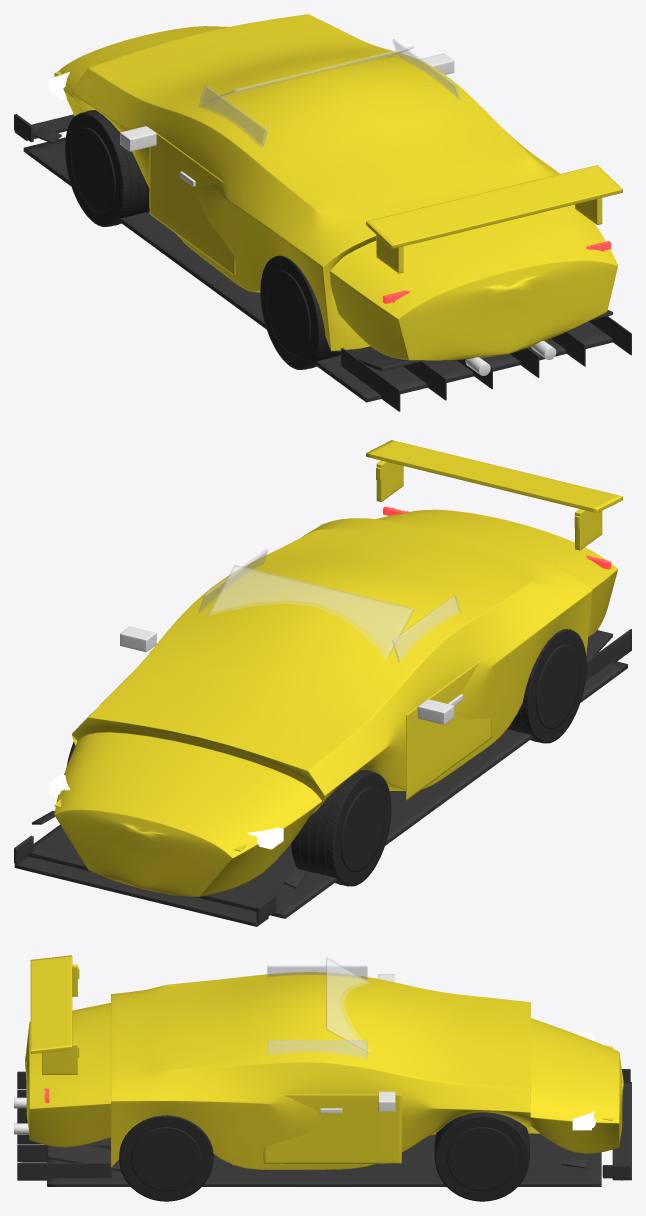
File: vehicle.opt.glb
The picture shows the model from 3 angles, top to bottom: view 1: azimuth 30°, elevation 25°; view 2: azimuth 150°, elevation 25°; view 3: azimuth 270°, elevation 25°; orthographic projection. The views are drawn at different scales.
Visible parts, largest first — view 1: BODY_MainShell, UNDERBODY_FlatFloor, AERO_GT2_BiplaneWingWithScoops, WHEEL_FL_Tire, BODY_Door_FL, WHEEL_RL_Tire, GLASS_Greenhouse, JEWELRY_Hardware, AERO_FrontSplitter, JEWELRY_GT2_TwinExhaust; view 2: BODY_MainShell, UNDERBODY_FlatFloor, GLASS_Greenhouse, WHEEL_FL_Tire, AERO_GT2_BiplaneWingWithScoops, WHEEL_RL_Tire, BODY_Door_FL, AERO_FrontSplitter, JEWELRY_Hardware, LIGHTING_Headlamps; view 3: BODY_MainShell, UNDERBODY_FlatFloor, BODY_Door_FR, WHEEL_FR_Tire, WHEEL_RR_Tire, AERO_GT2_BiplaneWingWithScoops, GLASS_Greenhouse, AERO_FrontSplitter, JEWELRY_Hardware, LIGHTING_Headlamps.
Part boxes in pixels (x1,y1,x2,y2): BODY_MainShell: (54,14,617,360); UNDERBODY_FlatFloor: (23,137,631,411); AERO_GT2_BiplaneWingWithScoops: (366,165,622,273); WHEEL_FL_Tire: (65,110,149,226); BODY_Door_FL: (149,128,235,276); WHEEL_RL_Tire: (260,255,339,369); GLASS_Greenhouse: (198,39,460,147); JEWELRY_Hardware: (120,53,454,186); AERO_FrontSplitter: (14,114,74,141); JEWELRY_GT2_TwinExhaust: (465,341,556,375); BODY_MainShell: (54,509,617,896); UNDERBODY_FlatFloor: (28,629,631,918); GLASS_Greenhouse: (198,549,460,661); WHEEL_FL_Tire: (291,770,391,886); AERO_GT2_BiplaneWingWithScoops: (366,440,622,550); WHEEL_RL_Tire: (507,629,586,743); BODY_Door_FL: (406,660,491,800); AERO_FrontSplitter: (14,836,276,926); JEWELRY_Hardware: (120,626,463,724); LIGHTING_Headlamps: (49,774,283,849); BODY_MainShell: (25,972,623,1169); UNDERBODY_FlatFloor: (17,1071,601,1186); BODY_Door_FR: (263,1094,401,1163); WHEEL_FR_Tire: (434,1112,529,1201); WHEEL_RR_Tire: (119,1115,213,1201); AERO_GT2_BiplaneWingWithScoops: (30,955,79,1074); GLASS_Greenhouse: (267,958,371,1058); AERO_FrontSplitter: (602,1069,631,1180); JEWELRY_Hardware: (320,974,395,1113); LIGHTING_Headlamps: (572,1032,595,1130).
Size of what is drawn, in the model's own units: 2.18 by 1.24 by 4.44.
